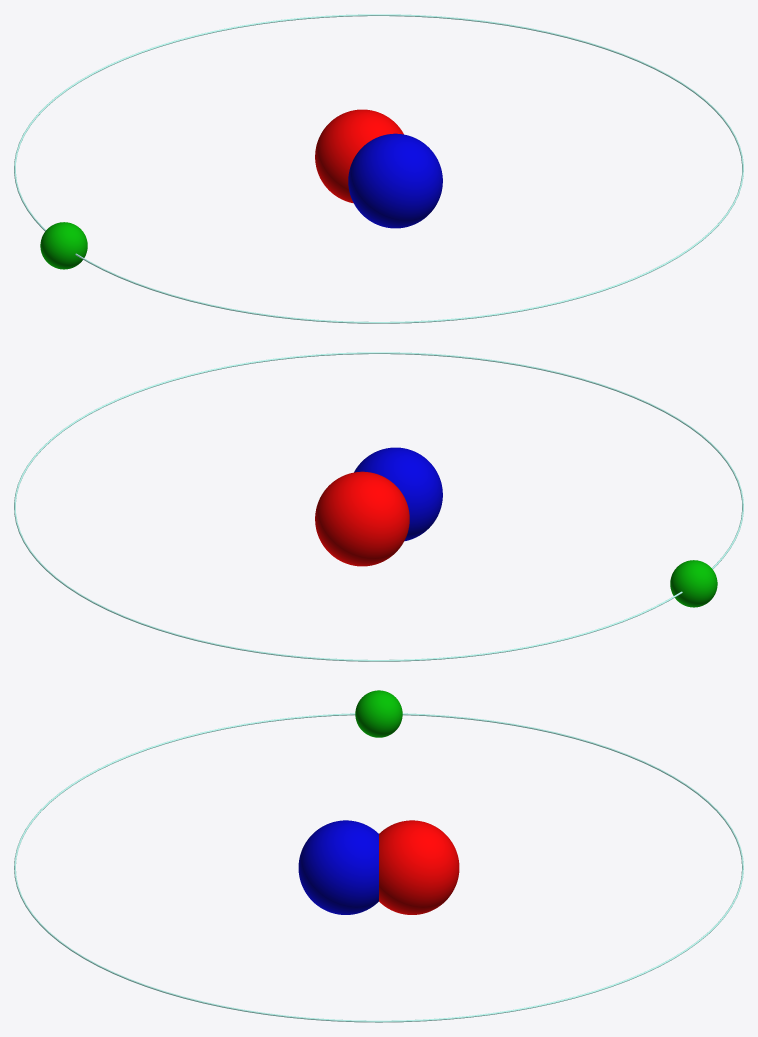
Rendered from asset.glb.
The picture shows the model from 3 angles, top to bottom: view 1: azimuth 30°, elevation 25°; view 2: azimuth 150°, elevation 25°; view 3: azimuth 270°, elevation 25°; orthographic projection.
Visible parts, largest first — view 1: Esfera_2, Toroide, Esfera, Esfera_1; view 2: Esfera, Toroide, Esfera_2, Esfera_1; view 3: Esfera_2, Esfera, Toroide, Esfera_1.
Part boxes in pixels (x1,y1,x2,y2): Esfera_2: (348,133,442,228); Toroide: (14,14,743,323); Esfera: (315,109,403,203); Esfera_1: (40,222,87,269); Esfera: (315,471,409,566); Toroide: (14,352,743,661); Esfera_2: (354,447,442,541); Esfera_1: (670,560,717,607); Esfera_2: (298,820,378,914); Esfera: (379,820,459,914); Toroide: (14,713,743,1022); Esfera_1: (355,690,402,737).
Bounding box in the file's own units: 1589 × 200 × 1542.
